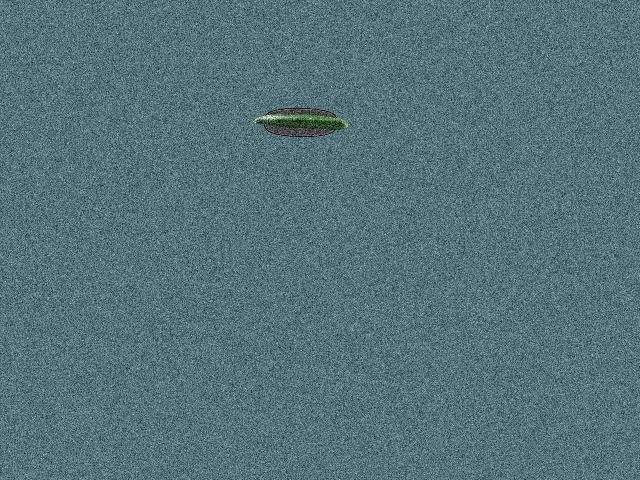cucumber: (252, 115, 347, 130)
